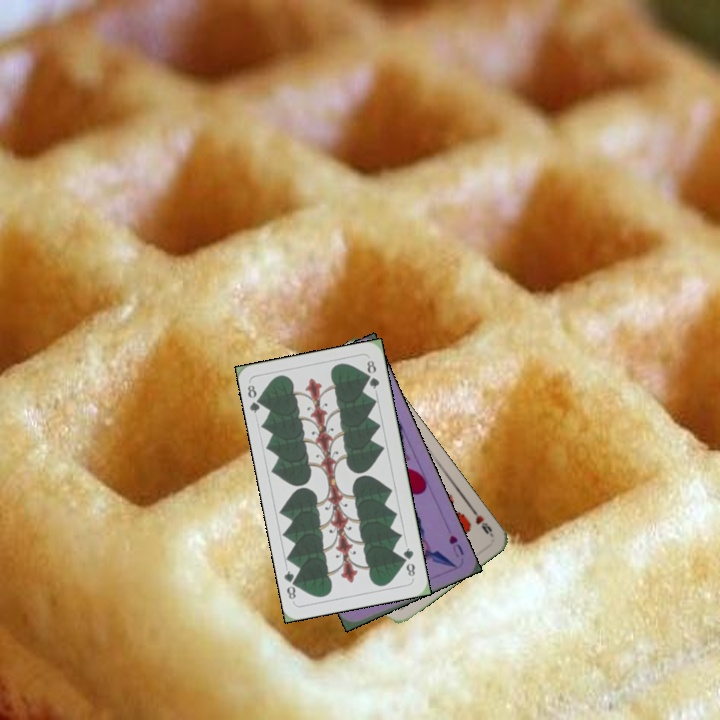G8: (243, 381, 266, 416), (399, 544, 418, 579)
H9: (466, 503, 495, 538)
HU: (445, 531, 467, 560)
